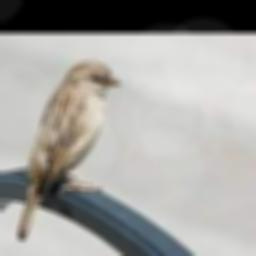Sparrow: (15, 60, 120, 240)
